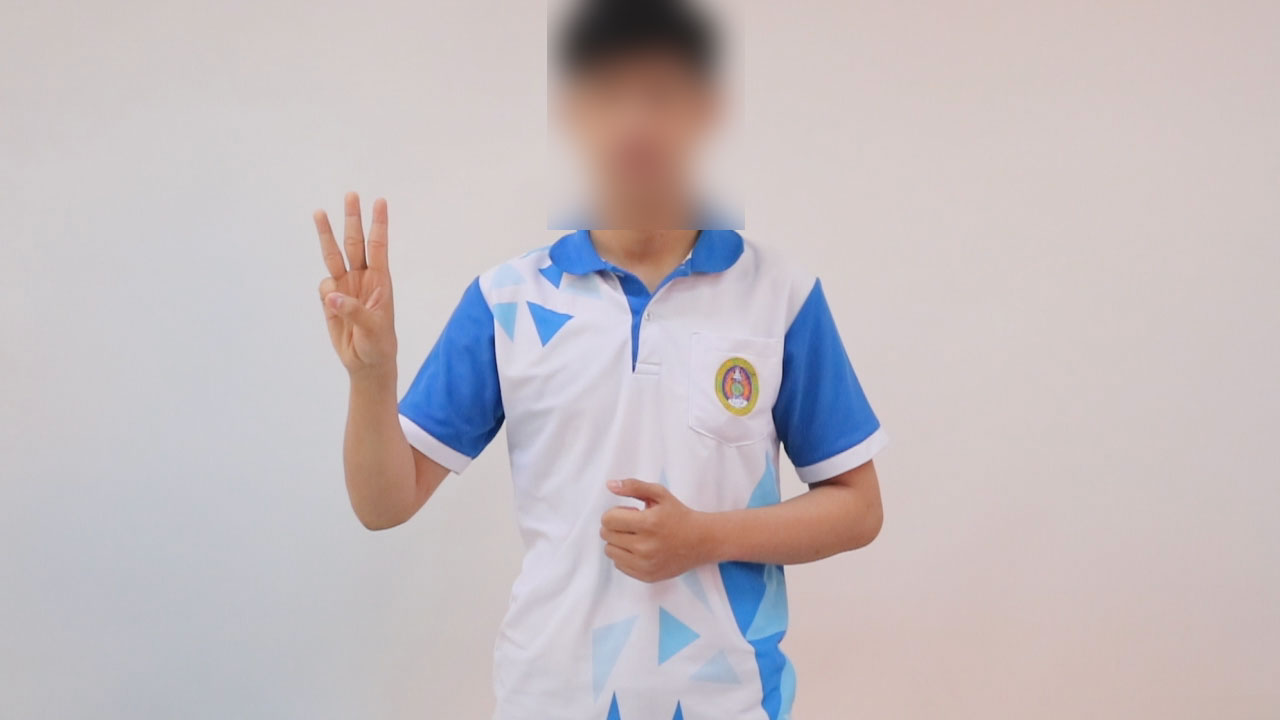wor: (306, 181, 407, 391)
